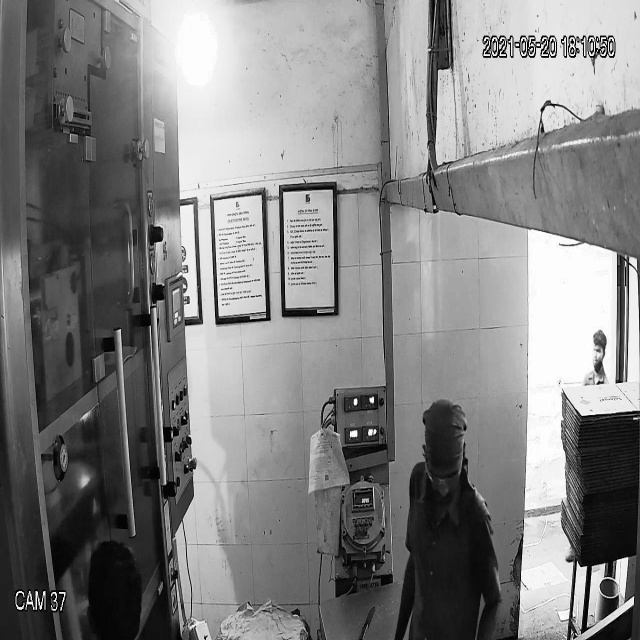Gafas: (421, 453, 466, 490)
